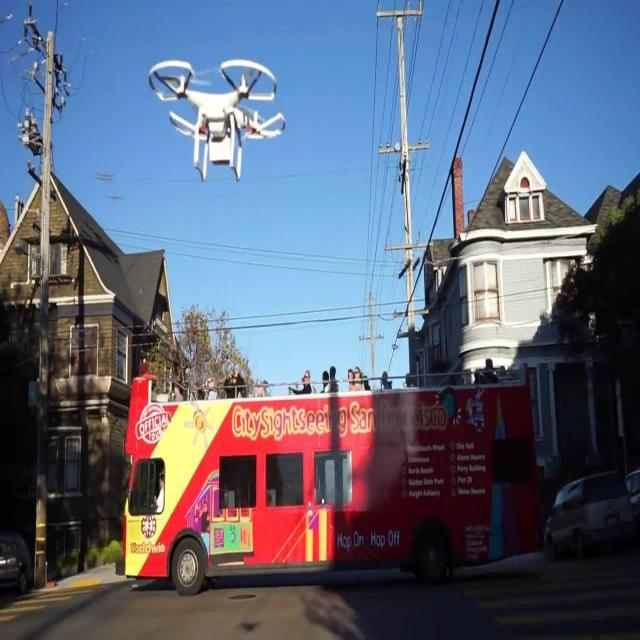UAV: (148, 59, 286, 183)
